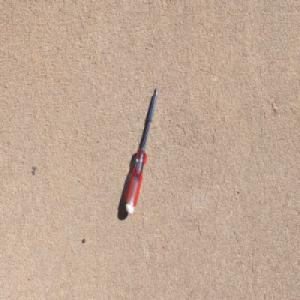Screwdriver: (124, 85, 159, 214)
